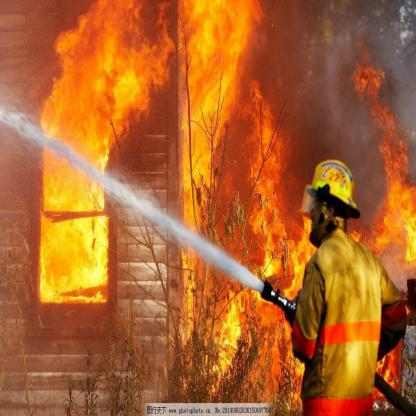fire: (178, 0, 295, 400), (30, 1, 168, 307), (351, 25, 415, 263)
other: (328, 272, 372, 411), (314, 151, 355, 207)
